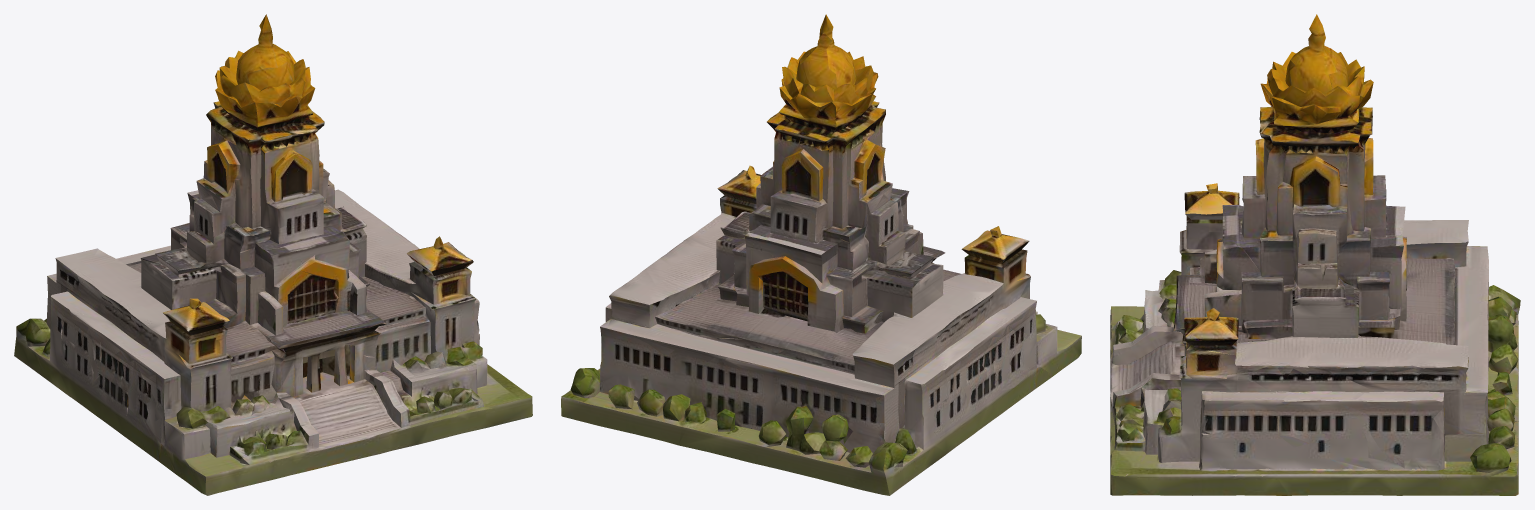
The model's file is chung-tai-chan-monastery.glb.
3 views of the same model, side by side, from view 1: azimuth 30°, elevation 25°; view 2: azimuth 150°, elevation 25°; view 3: azimuth 270°, elevation 25° (orthographic). The views are drawn at different scales.
Visible parts, largest first — view 1: logan-textured.obj; view 2: logan-textured.obj; view 3: logan-textured.obj.
Boxes of the visible parts, x1,y1,x2,y2 form: logan-textured.obj: (14,14,532,495); logan-textured.obj: (561,14,1081,495); logan-textured.obj: (1110,14,1520,495).
Bounding box in the file's own units: 0.9232 × 1 × 0.9433.
1 material, 1 textured.
